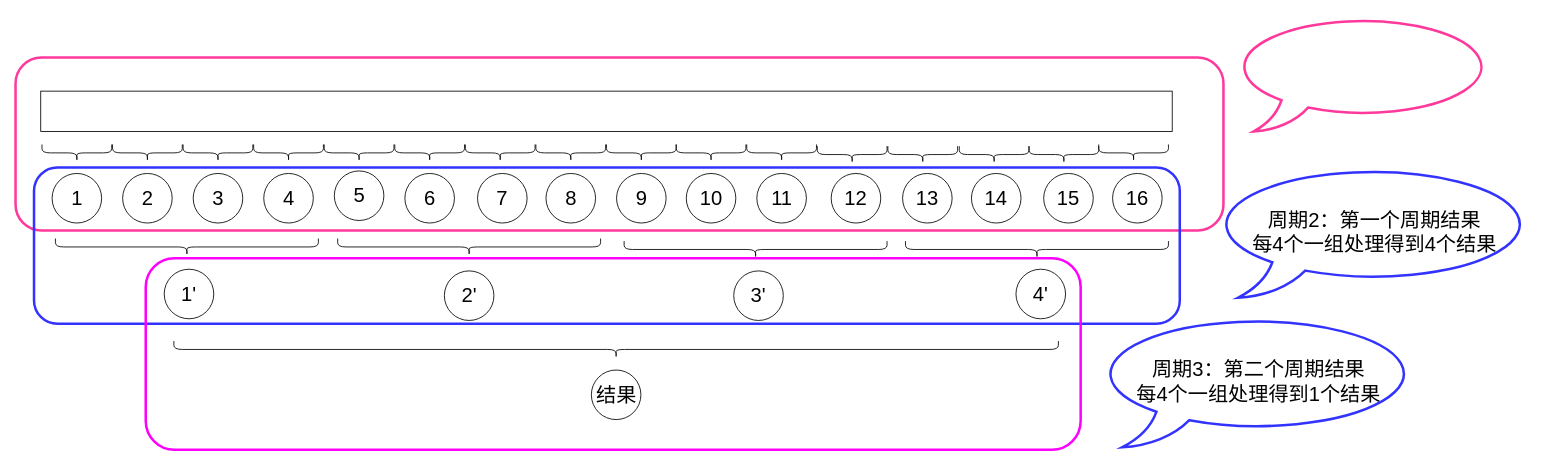
Image size: 1554x465. Some labels were removed from this diagram. Each missing label, with the centre of its shape:
乘数(64位): the point at 606,110
周期1：乘数每4位一组 处理得到16个结果: the point at 1363,73
